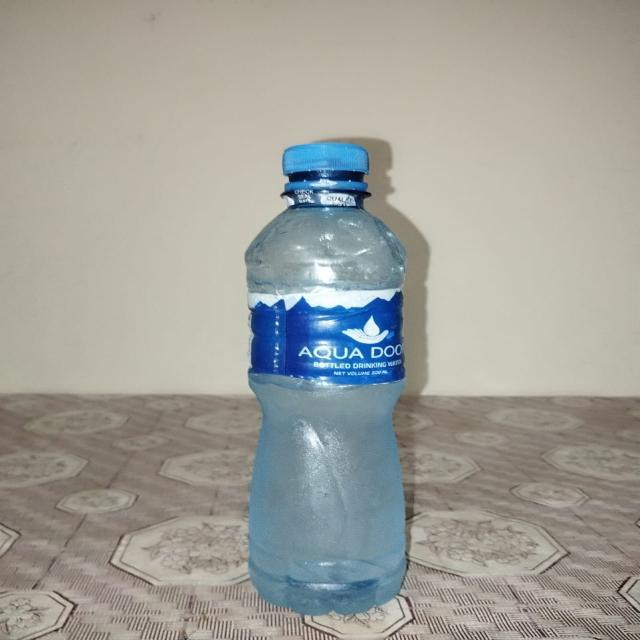bottle: (242, 140, 418, 618)
cap: (274, 143, 382, 198)
label: (242, 288, 415, 387)
